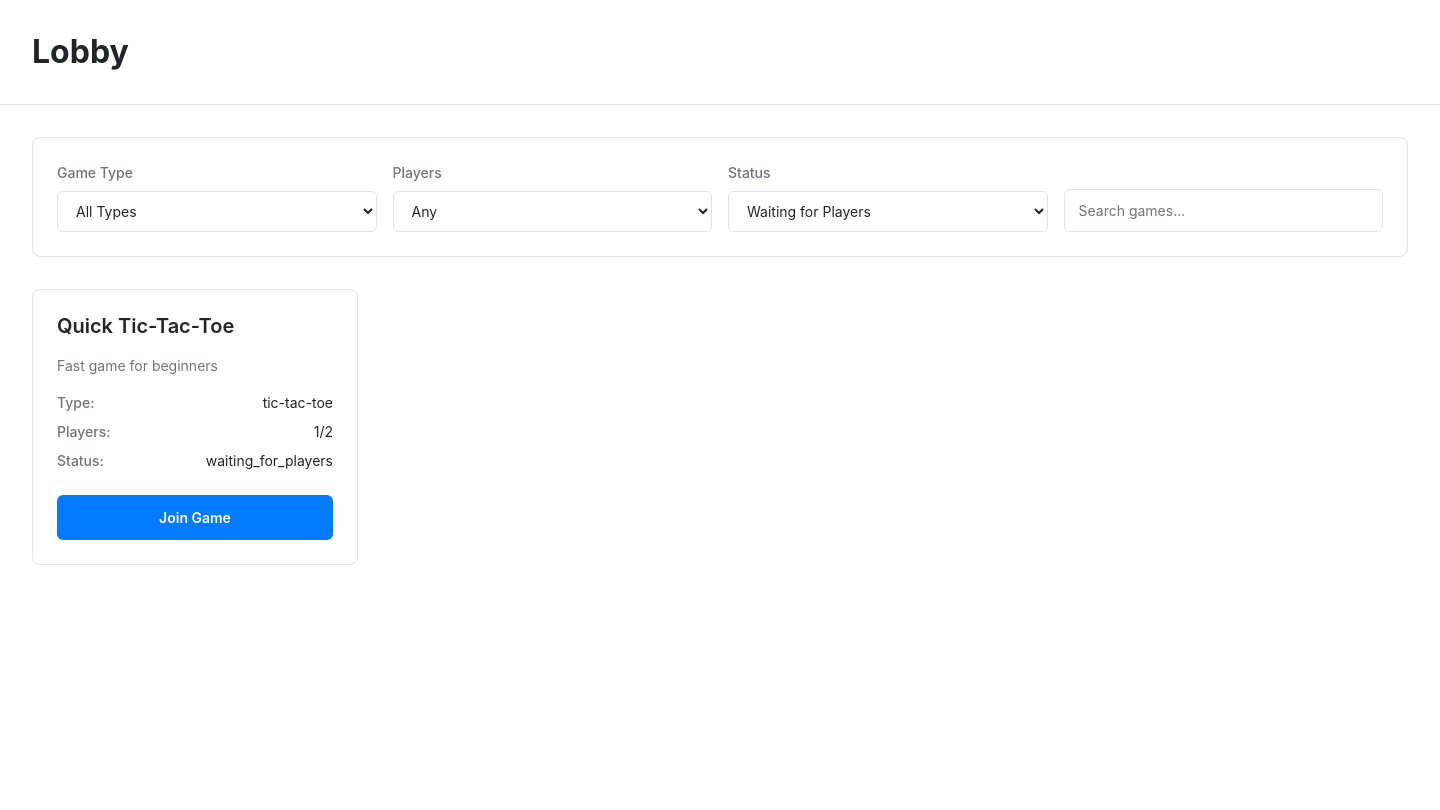
Test: LobbyView › Join Game Flow › should display error message when join fails
Check: the heading "Quick Tic-Tac-Toe" is shown, box [57,314,234,339]
Click the button "Join Game" at coordinates (195, 518), box [57,495,333,540]
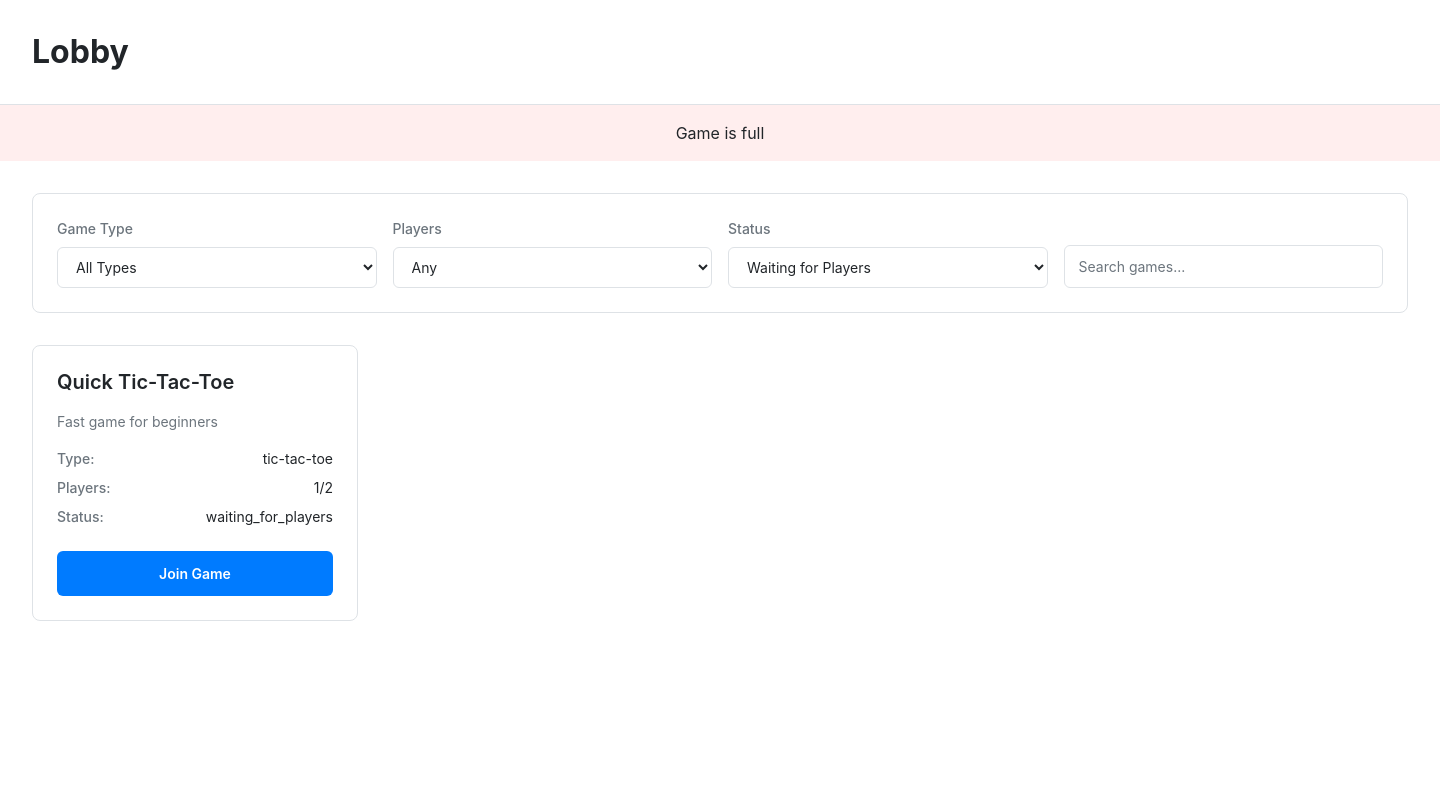
Check: the text "Game is full" is shown, box [0,105,1439,161]
